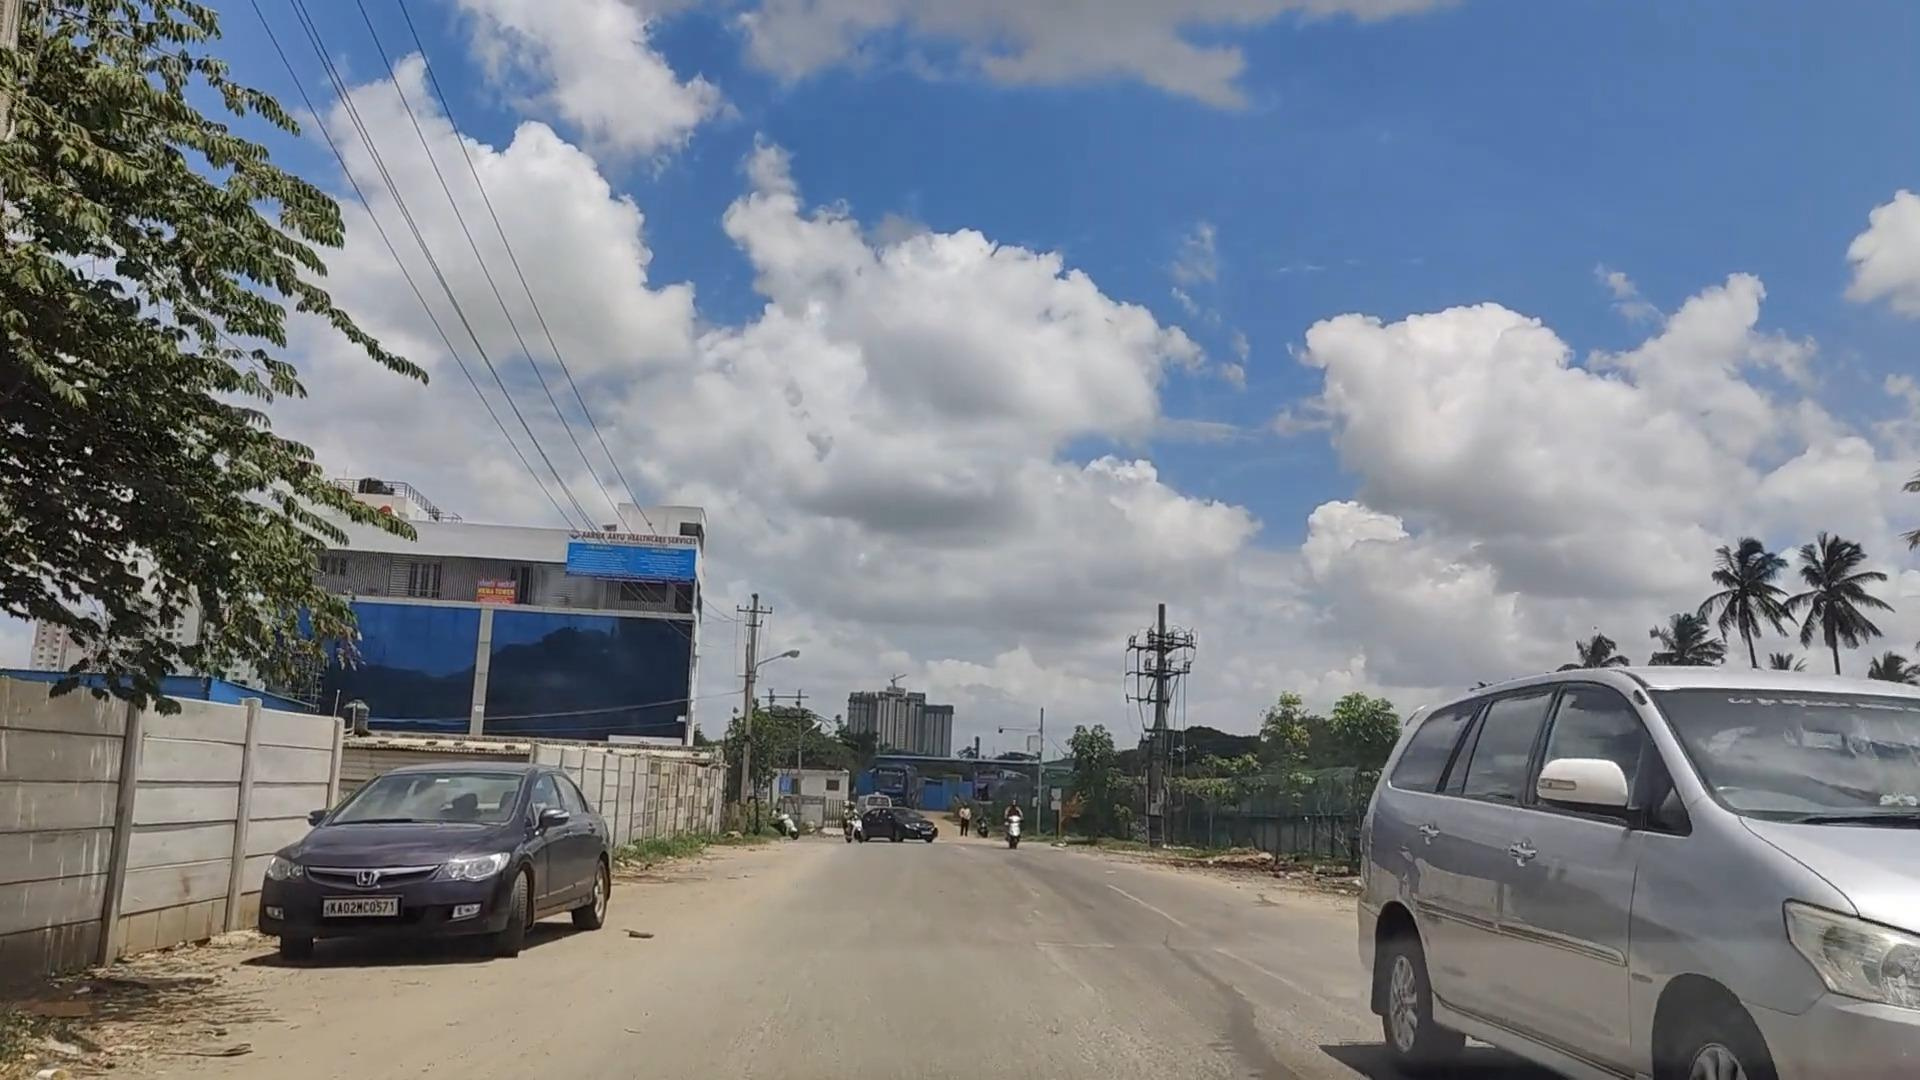LMV: (1345, 655, 1920, 1080), (253, 748, 637, 964)
RoadDamages: (683, 998, 1311, 1080)
